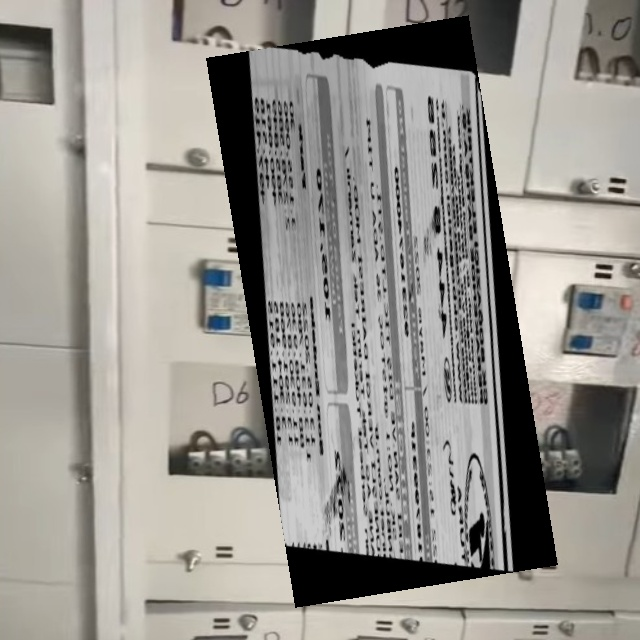electricity-bill: (206, 15, 558, 608)
